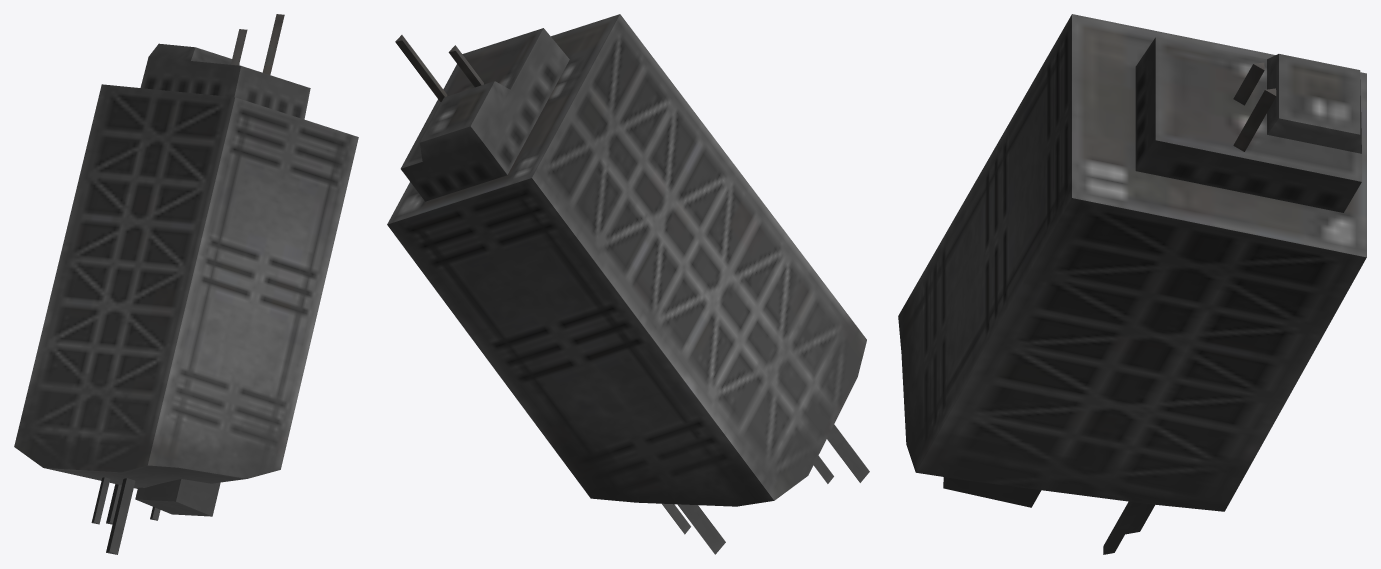
The model's file is skyBuildingAAA_pos_grp (9).fbx.
3 renders of one model, left to right at view 1: azimuth 30°, elevation 25°; view 2: azimuth 150°, elevation 25°; view 3: azimuth 270°, elevation 25°, orthographic. The views are drawn at different scales.
Visible parts, largest first — view 1: skyBuildingAAA_geo; view 2: skyBuildingAAA_geo; view 3: skyBuildingAAA_geo.
Part boxes in pixels (x1=…): skyBuildingAAA_geo: x1=14, y1=14, x2=358, y2=554; skyBuildingAAA_geo: x1=387, y1=14, x2=869, y2=554; skyBuildingAAA_geo: x1=898, y1=14, x2=1366, y2=554.
Bounding box in the file's own units: 4.72 × 6.34 × 4.52.
